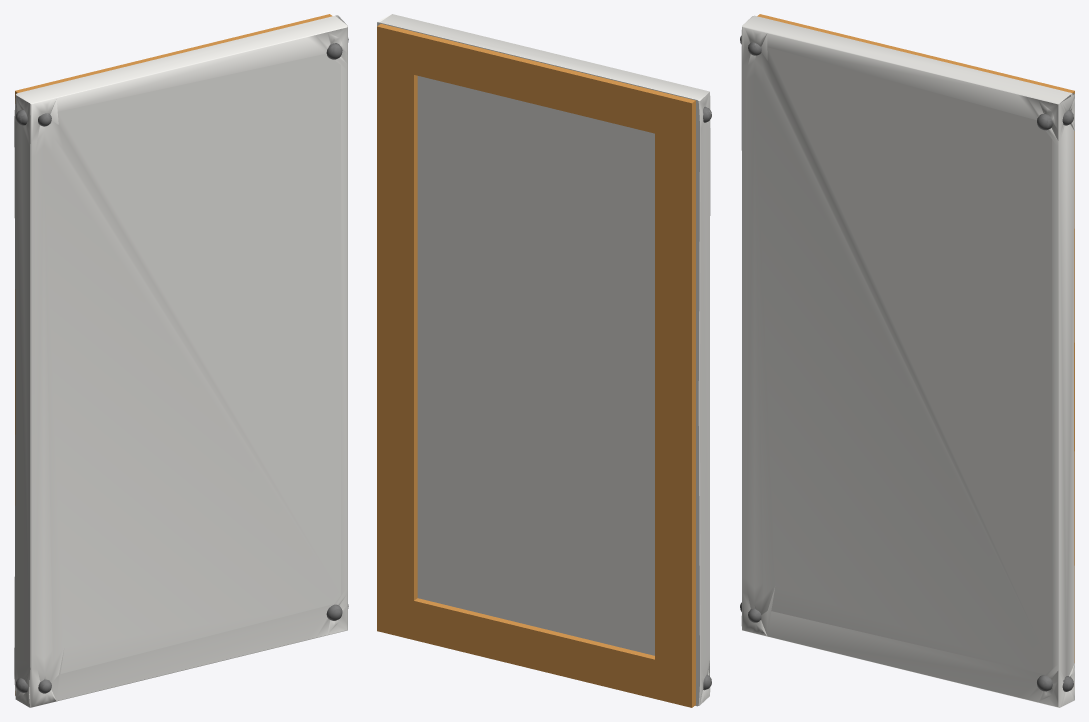
The model's file is Project Canvas3.fbx.
3 views of the same model, side by side, from view 1: azimuth 30°, elevation 25°; view 2: azimuth 150°, elevation 25°; view 3: azimuth 330°, elevation 25° (orthographic).
Parts seen in each view (by area): view 1: Paintable, Canvas, Frame; view 2: Canvas, Frame; view 3: Paintable, Canvas, Frame.
Part boxes in pixels (left/top/right/bottom): Paintable: left=35, top=53, right=340, bottom=682; Canvas: left=14, top=15, right=348, bottom=707; Frame: left=15, top=14, right=332, bottom=695; Canvas: left=377, top=14, right=711, bottom=706; Frame: left=377, top=23, right=695, bottom=707; Paintable: left=745, top=47, right=1051, bottom=674; Canvas: left=740, top=15, right=1074, bottom=707; Frame: left=757, top=14, right=1074, bottom=662.
Bounding box in the file's own units: 210 × 368 × 23.28.
